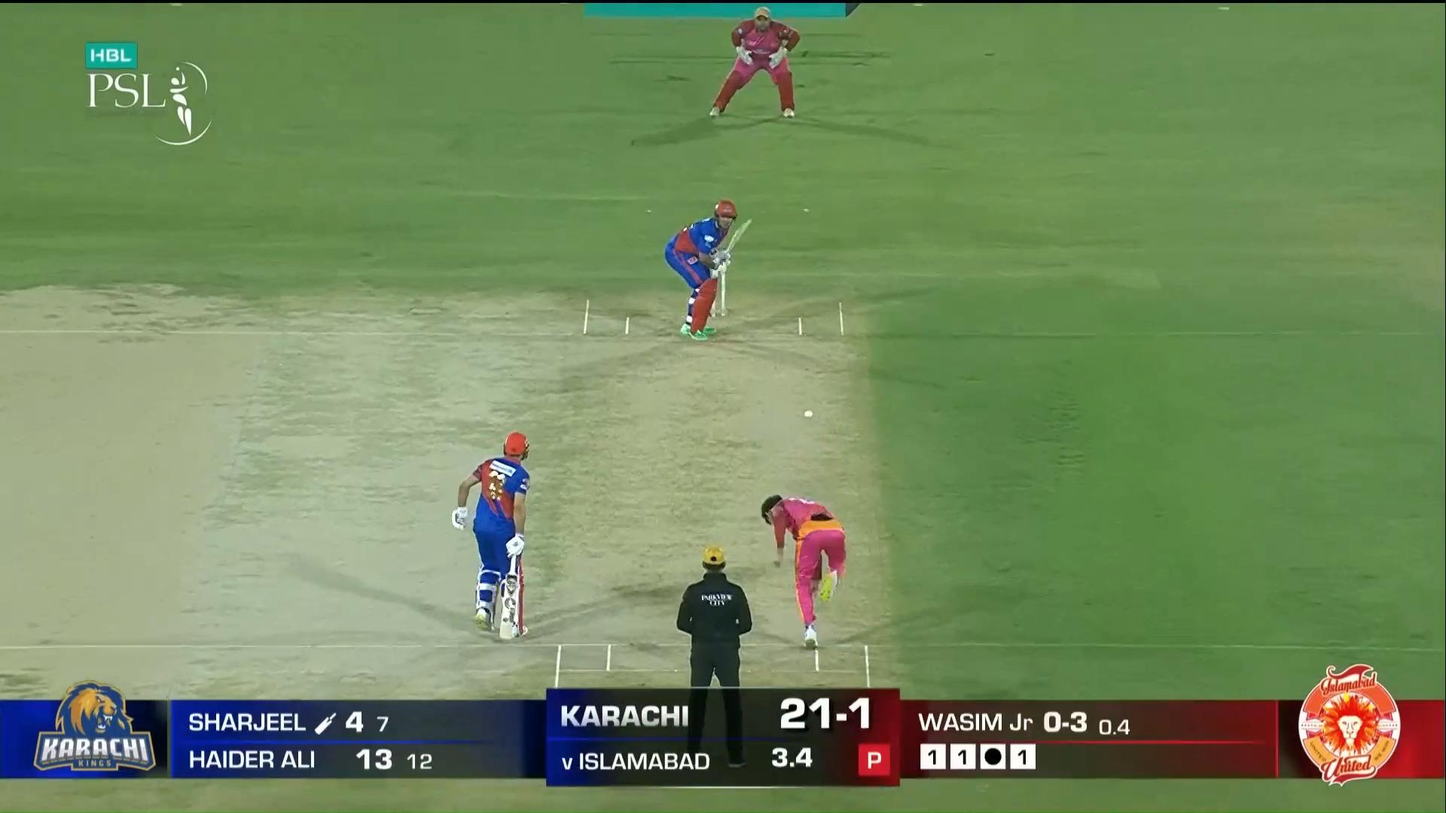batsman: (664, 199, 753, 341)
